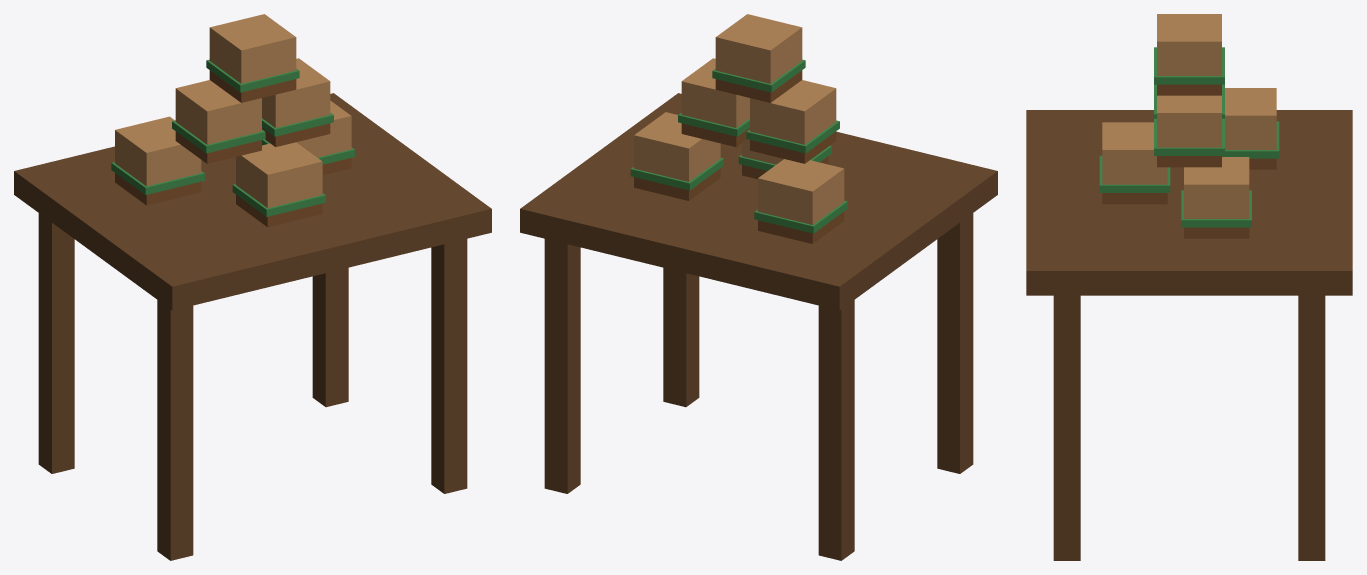
Rendered from table_burgers.glb.
3 renders of one model, left to right at view 1: azimuth 30°, elevation 25°; view 2: azimuth 150°, elevation 25°; view 3: azimuth 270°, elevation 25°, orthographic. The views are drawn at different scales.
Parts seen in each view (by area): view 1: table_burgers; view 2: table_burgers; view 3: table_burgers.
Part boxes in pixels (x1,y1,x2,y2): table_burgers: [14, 14, 491, 560]; table_burgers: [520, 14, 997, 560]; table_burgers: [1026, 14, 1352, 560].
Size of the model in its own units: 0.7 by 0.93 by 0.6.
1 material, 1 textured.
